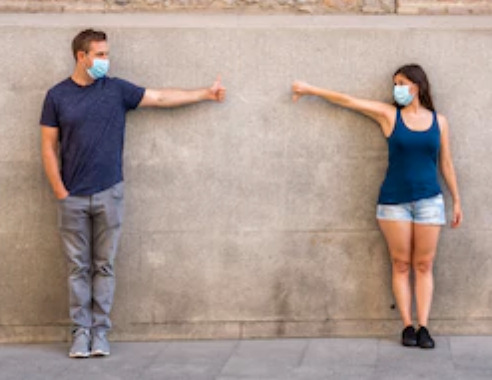Caution: (39, 27, 464, 357)
